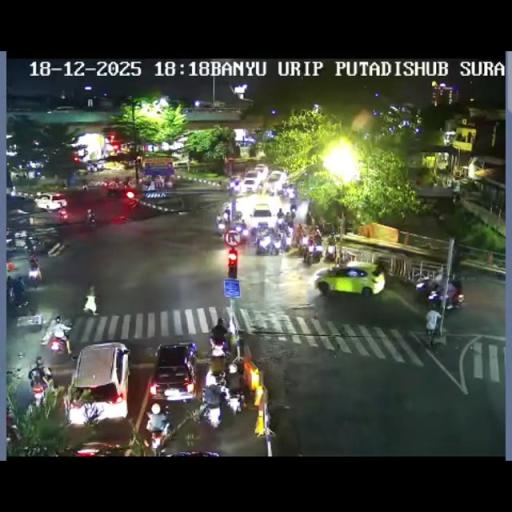Car: (68, 342, 130, 423), (148, 342, 198, 403), (315, 262, 386, 296), (142, 188, 186, 213), (250, 203, 274, 229), (34, 193, 67, 210), (264, 170, 286, 193), (242, 174, 262, 192), (49, 106, 79, 114), (254, 164, 268, 178)
Motorcycle: (198, 391, 226, 429), (145, 420, 172, 454), (206, 345, 229, 378), (47, 328, 72, 356), (28, 375, 48, 407), (224, 384, 244, 416), (6, 406, 22, 446), (6, 283, 28, 312), (415, 277, 439, 302), (302, 238, 323, 264), (443, 286, 464, 310), (83, 285, 99, 315), (255, 230, 272, 254), (232, 220, 247, 242), (5, 364, 24, 381), (26, 268, 42, 288), (324, 240, 337, 262), (269, 233, 282, 255), (41, 364, 54, 386), (215, 214, 227, 234), (279, 220, 291, 238), (25, 236, 36, 254), (58, 207, 68, 223), (233, 209, 244, 223), (29, 253, 38, 269), (86, 214, 96, 227), (228, 182, 238, 195), (250, 222, 258, 238), (86, 162, 96, 173), (287, 188, 295, 201), (301, 234, 309, 246), (314, 226, 322, 238), (123, 176, 131, 188), (224, 208, 230, 223), (276, 208, 284, 219), (290, 202, 296, 216), (285, 211, 291, 224), (114, 178, 120, 188), (102, 179, 108, 188), (82, 184, 88, 190)
